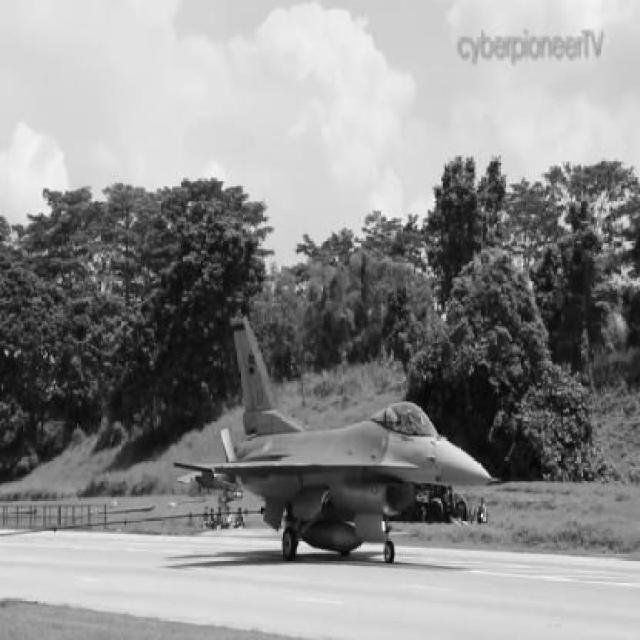Airplane: (173, 316, 494, 563)
